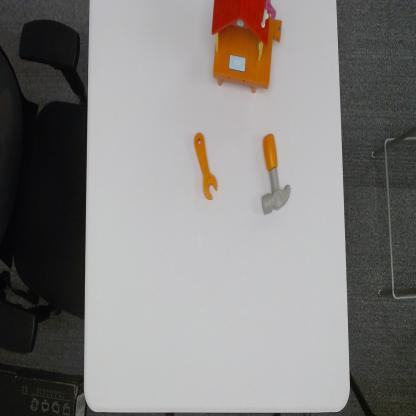Hammer: (261, 130, 291, 216)
House: (210, 0, 282, 95)
Screwdriver: (193, 131, 219, 200)
